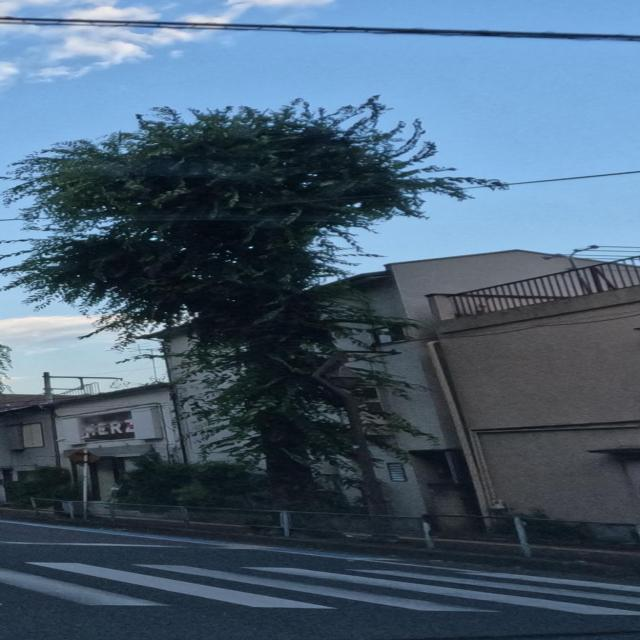zelkova: (0, 94, 512, 539)
